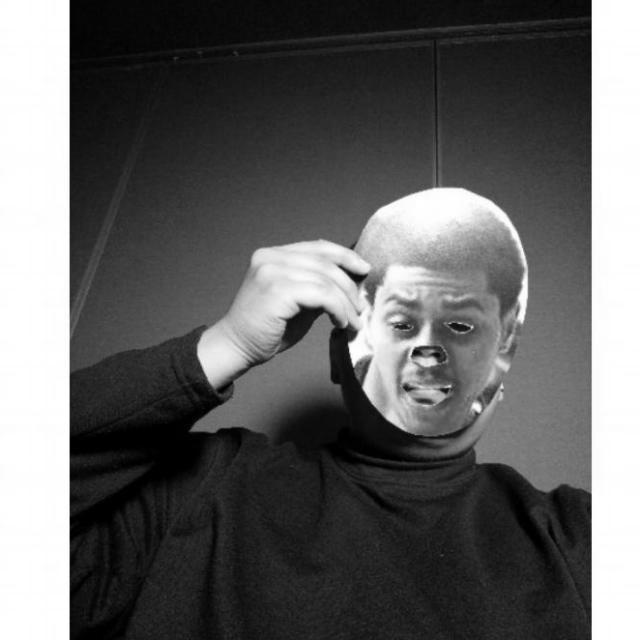fake: (339, 186, 534, 436)
